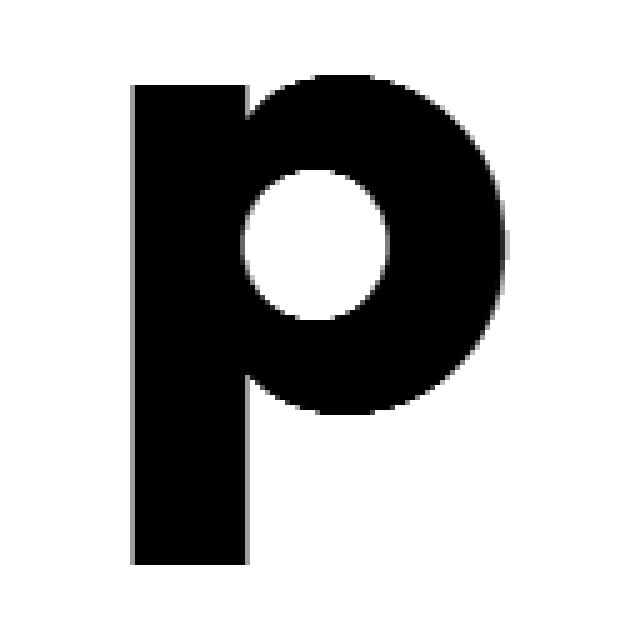P: (130, 75, 510, 570)
